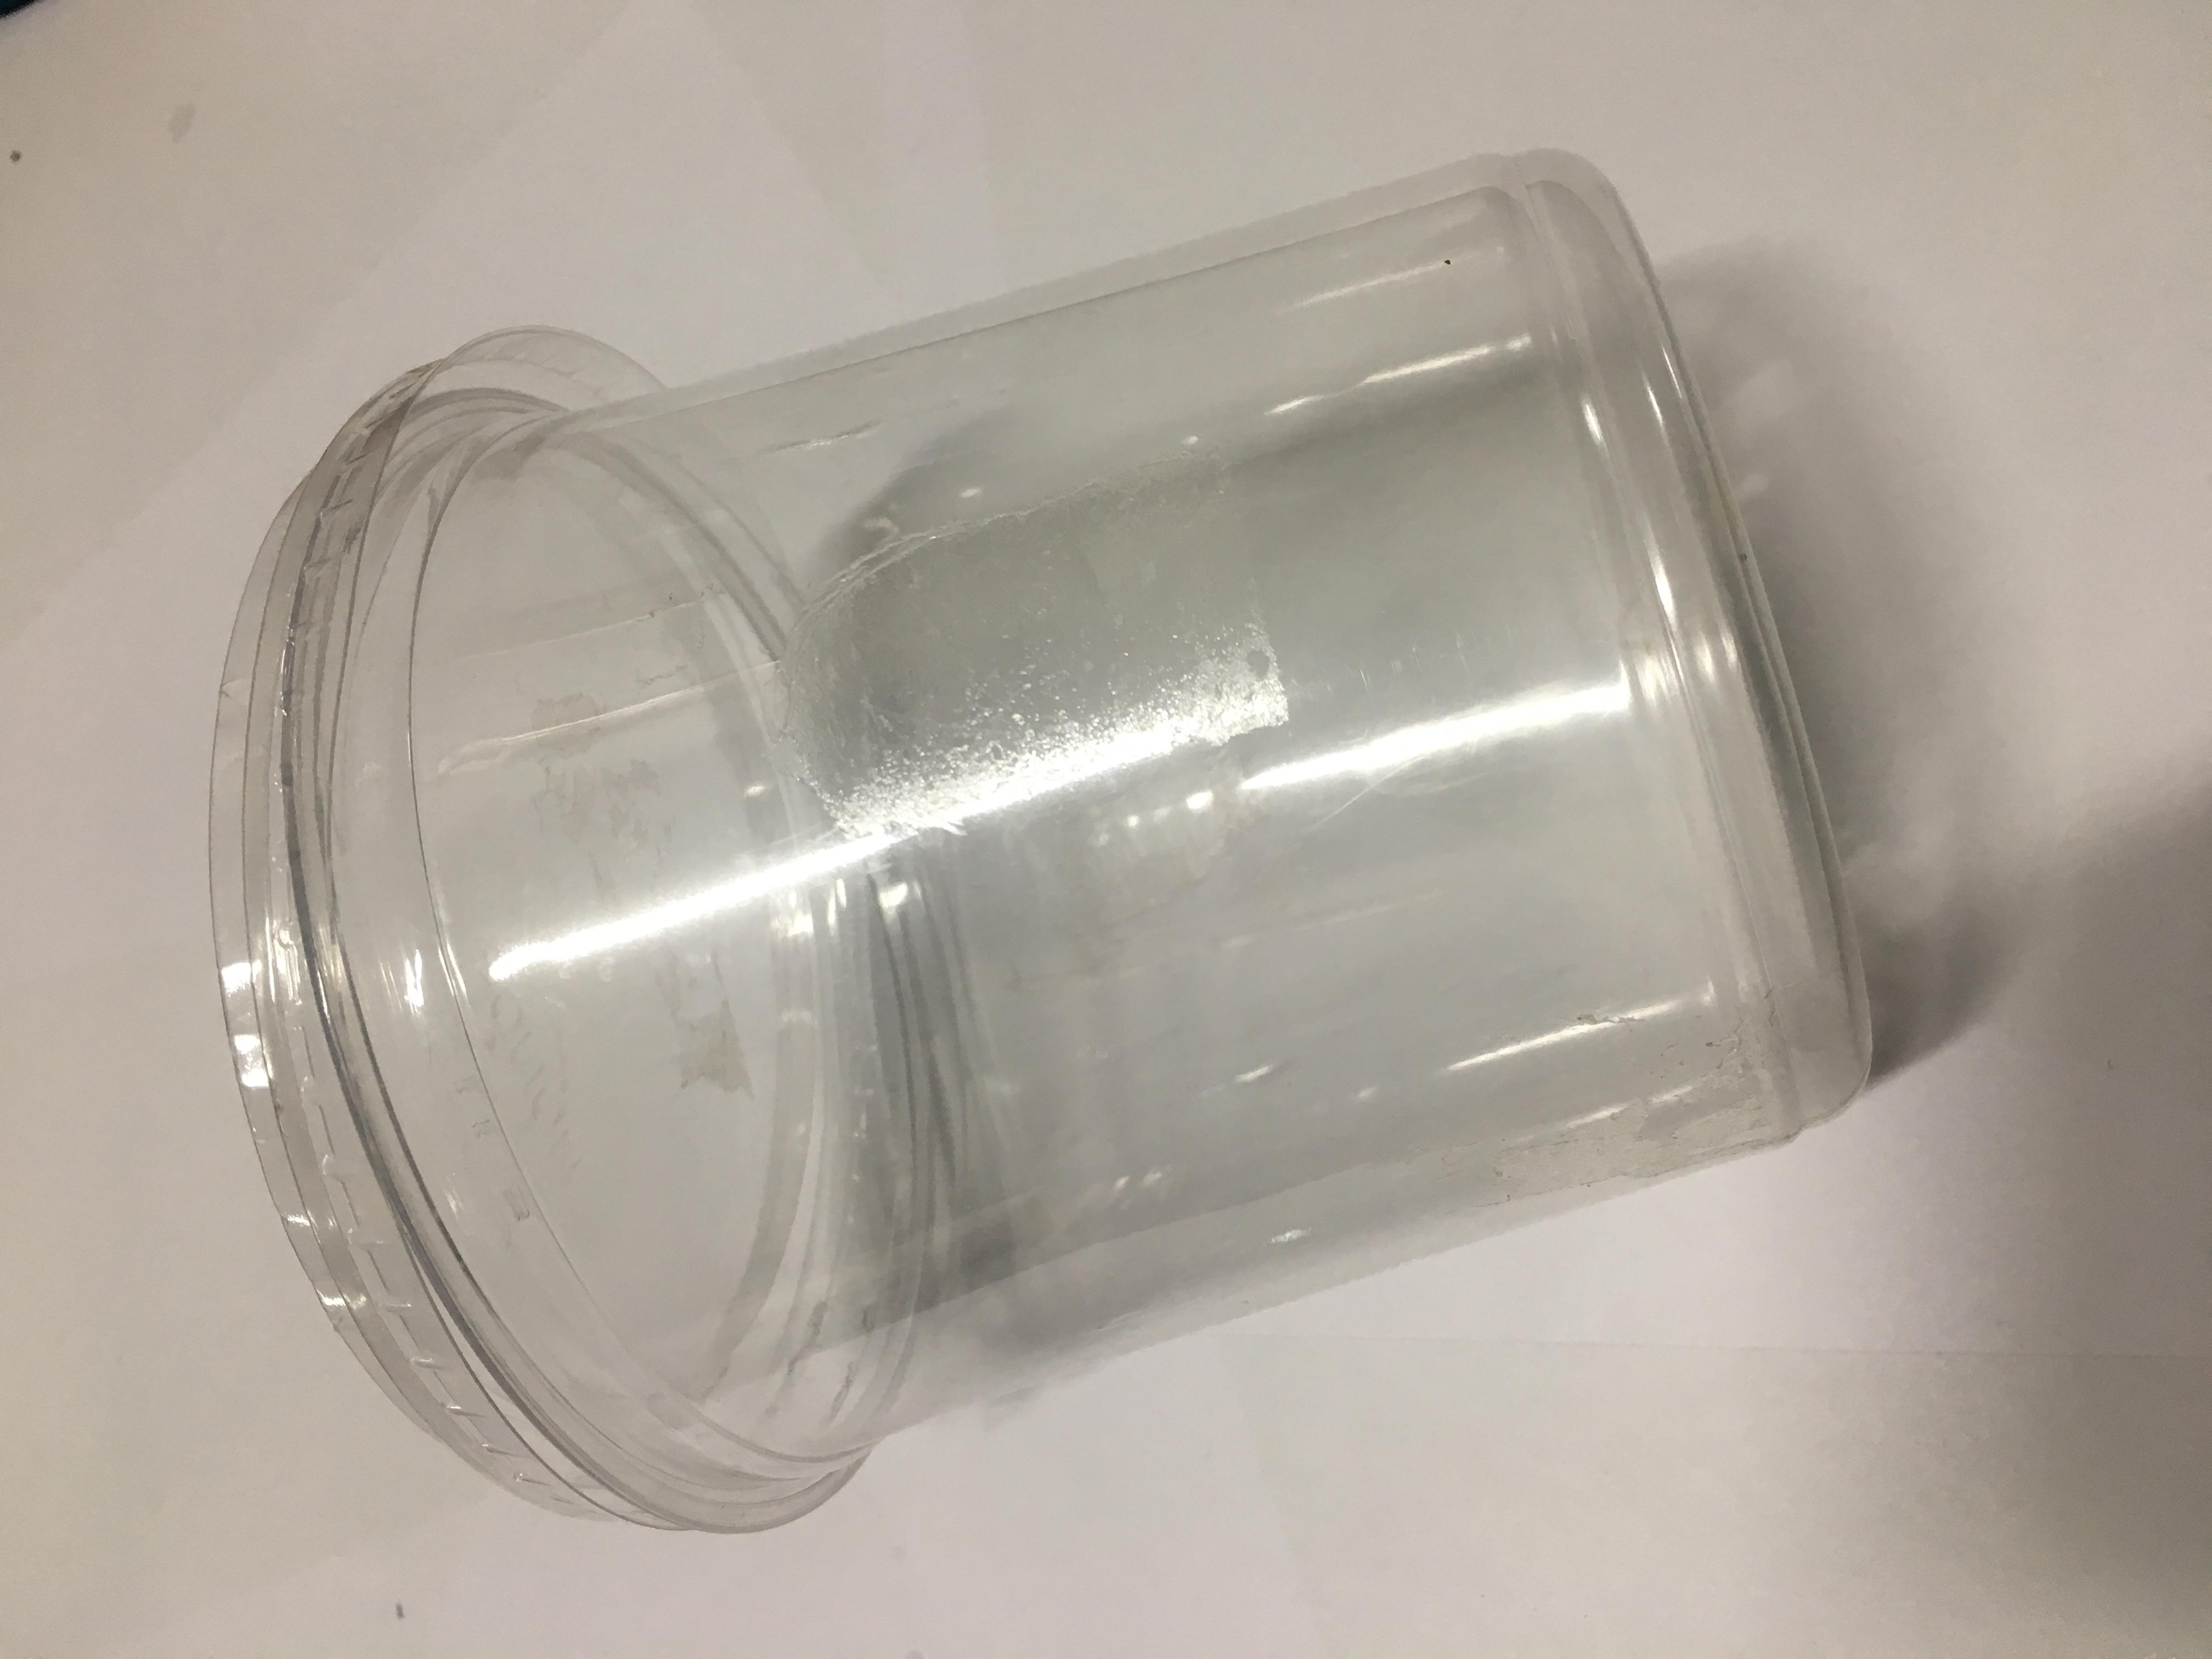bottle: (68, 650, 2168, 678)
